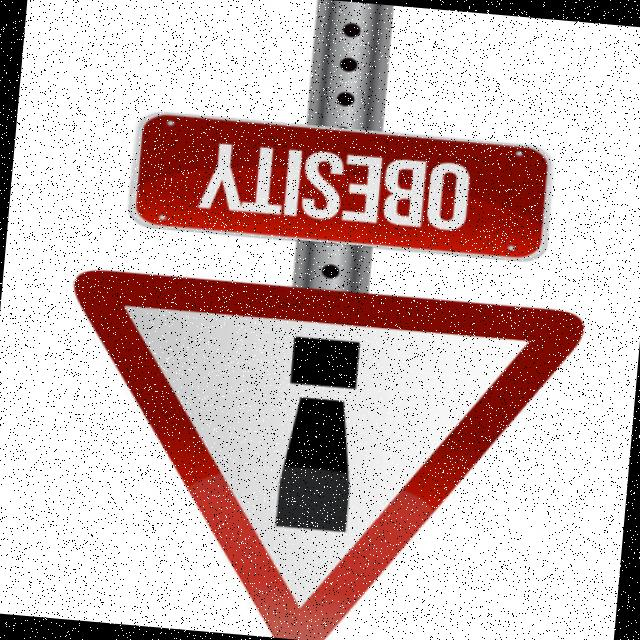warning: (33, 253, 604, 640)
